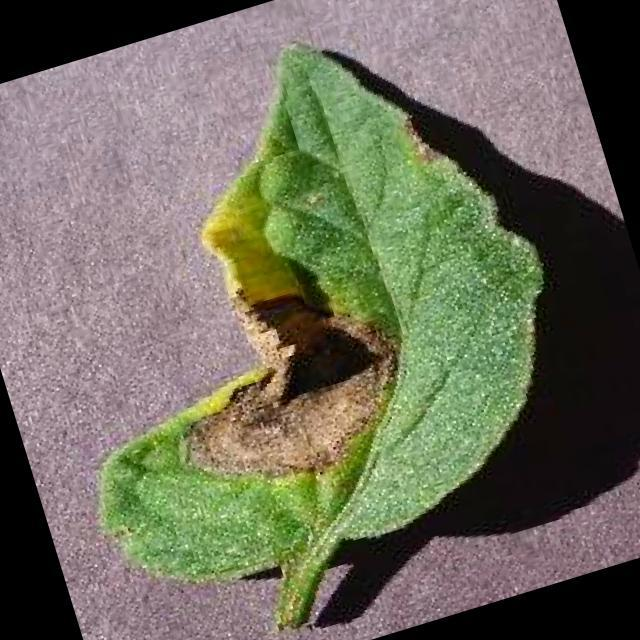Tomato Early blight leaf: (0, 0, 603, 613)
